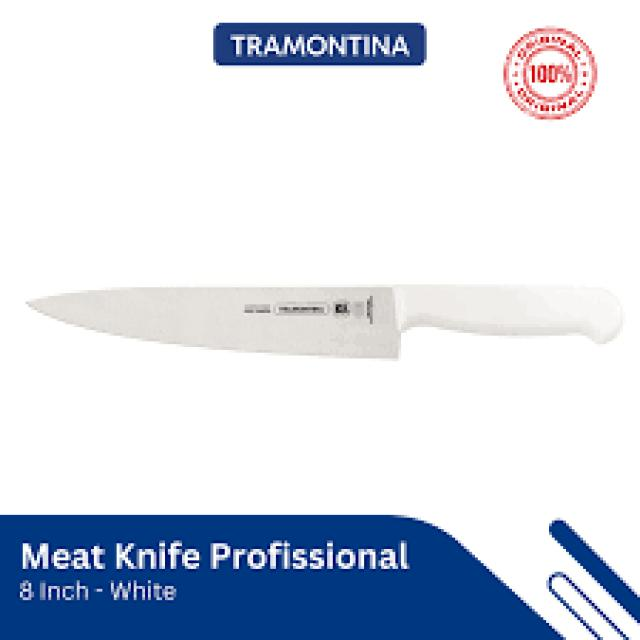Knife: (26, 282, 623, 358)
